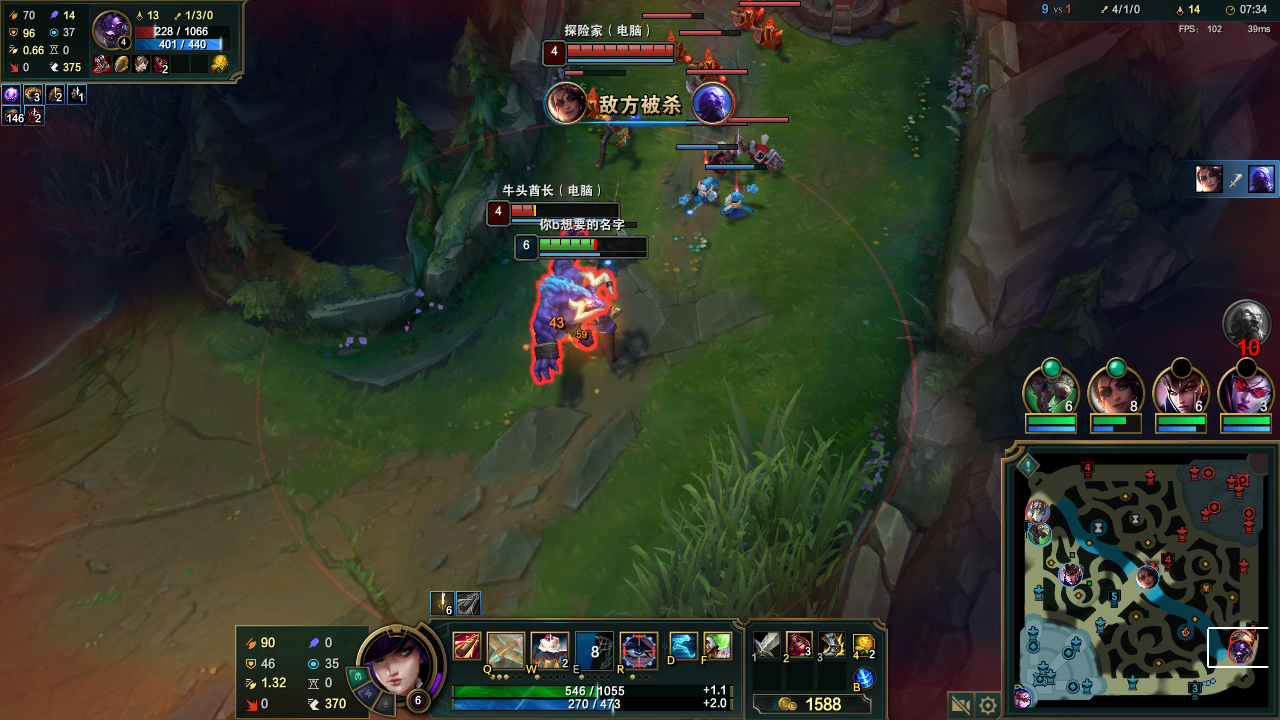DFXB: (743, 132, 779, 170), (692, 52, 731, 84), (576, 86, 608, 118), (749, 23, 783, 50), (707, 146, 737, 172), (663, 31, 695, 55), (737, 7, 758, 29)
DFYX: (564, 44, 669, 57), (510, 204, 610, 216)
WFXB: (722, 187, 748, 220), (692, 178, 720, 203)
